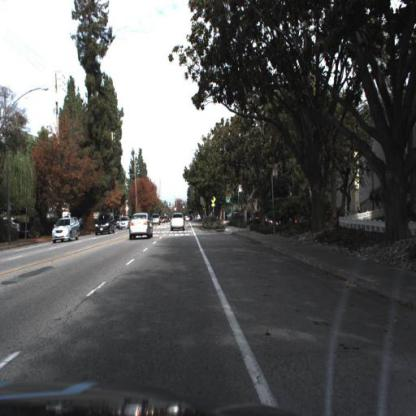car: (50, 213, 84, 246), (129, 211, 154, 239), (94, 214, 115, 237), (169, 211, 187, 232), (120, 215, 131, 231)
